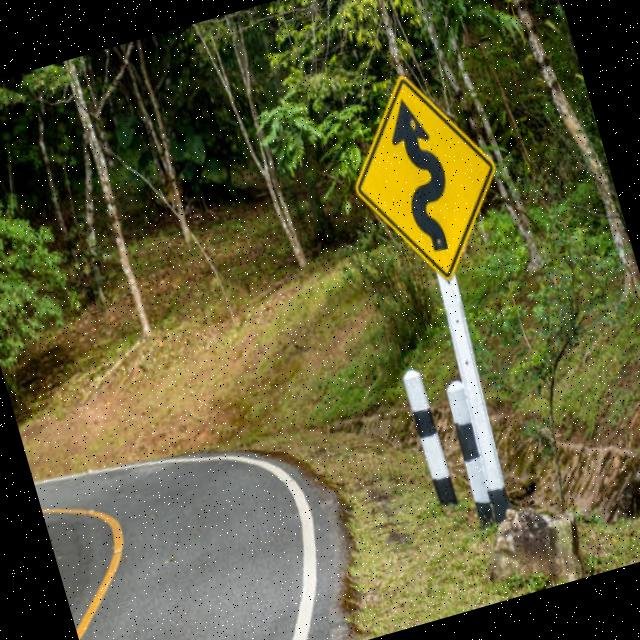left_sharp_curve: (323, 54, 522, 300)
